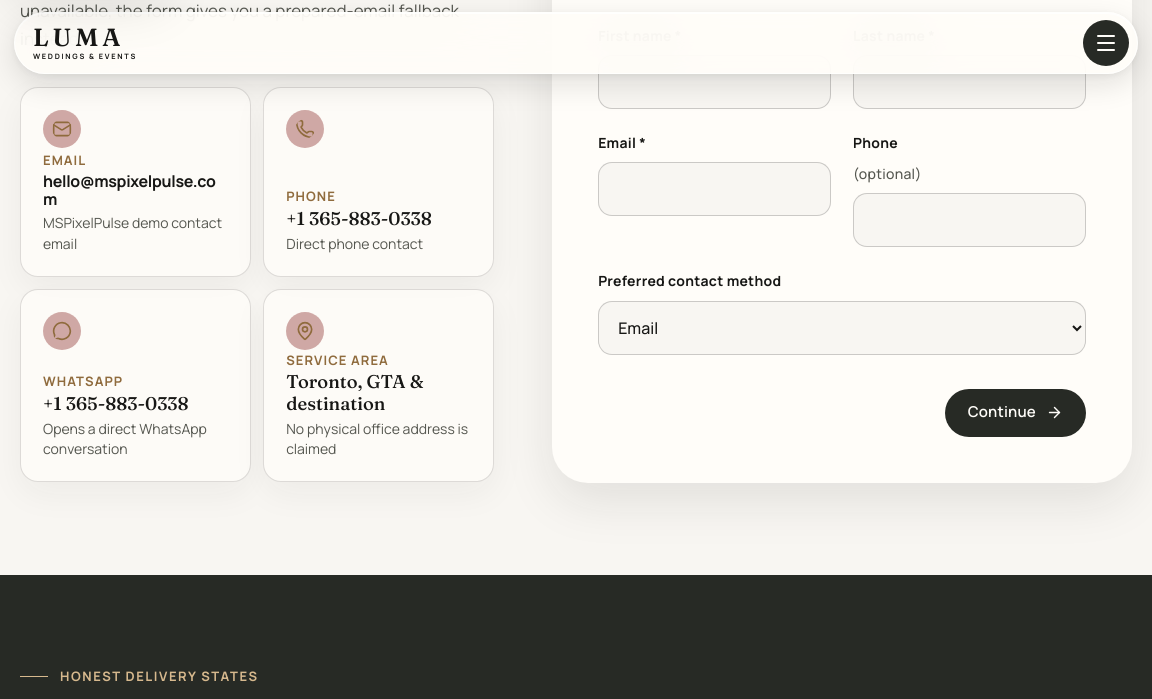
LUMA routes › validates the inquiry form before advancing
(page scrolled)
Expected: the link "Phone +1 365-883-0338 Direct phone contact" is shown, [263,87,494,277]
Click the button "Continue" at coordinates (1015, 412), box [945,388,1086,436]
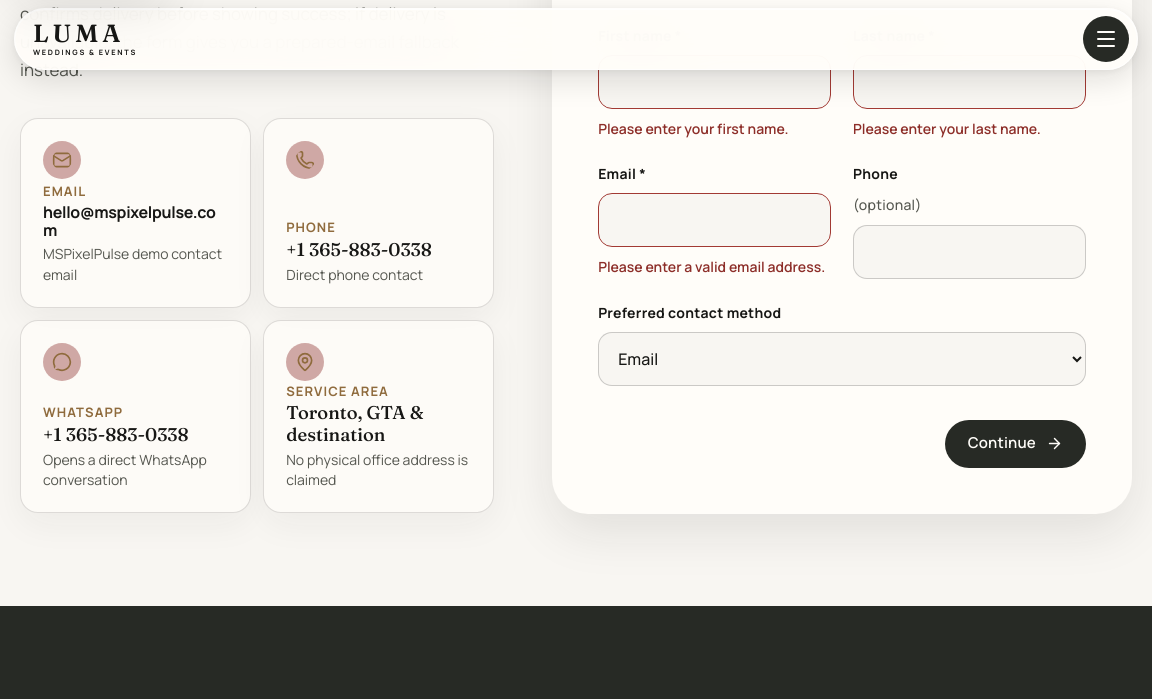
Result: the text "Please enter your first name." is shown at [598,119,788,138]
Result: the text "Please enter a valid email address." is shown at [598,255,831,278]
